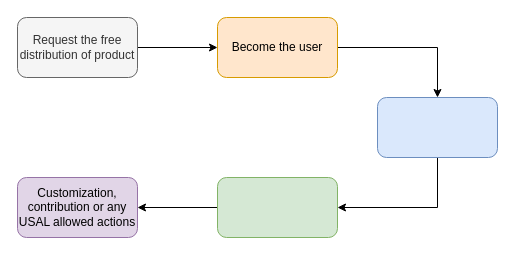
The diagram is 515 pixels wide and 255 high, and some of its shapes have lost their labels. The shapes that lost their labels are listed below. From the top down, each one's centre as x and y in pixels, then its label:
[437,127]: Request the USAL licensed sources
[277,207]: Get the USAL licensed sources
